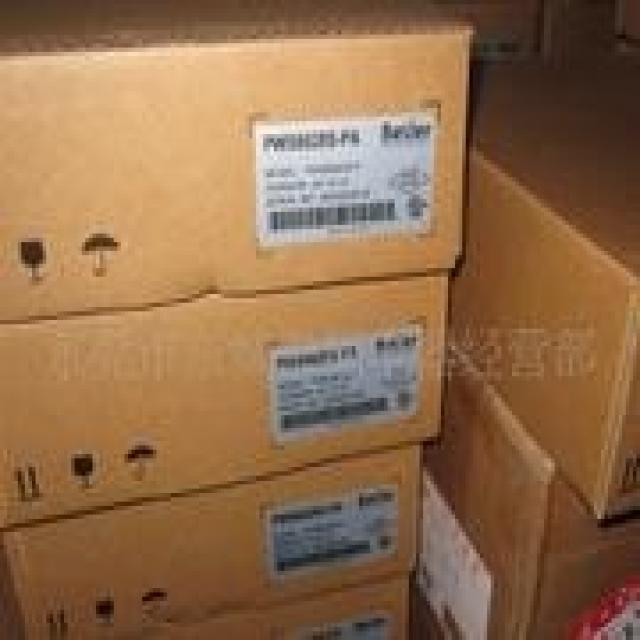Carton: (0, 285, 448, 636), (0, 30, 459, 324), (459, 56, 633, 519)
